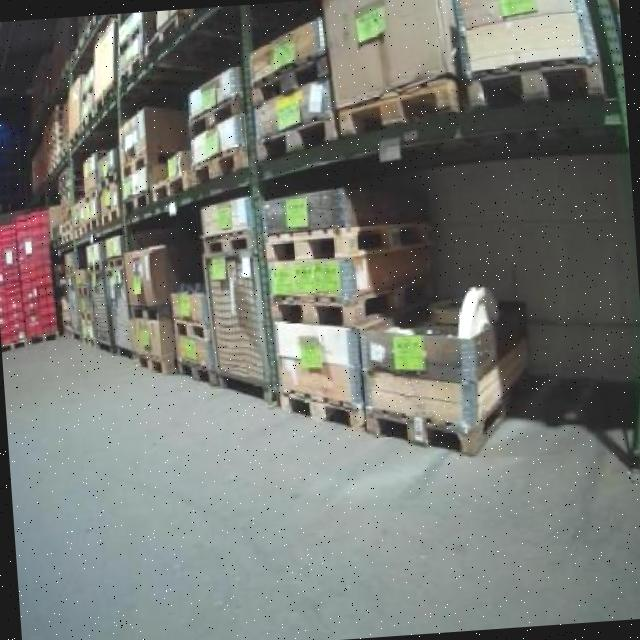pallet: (331, 62, 467, 149), (360, 388, 513, 465), (458, 44, 612, 118), (262, 272, 437, 334), (258, 209, 442, 267), (272, 374, 372, 441), (248, 104, 344, 168), (240, 48, 342, 108), (183, 135, 257, 195), (183, 85, 251, 146), (140, 9, 193, 68), (167, 347, 224, 397), (144, 162, 193, 208), (116, 146, 178, 178), (166, 314, 222, 342), (132, 348, 178, 378)
